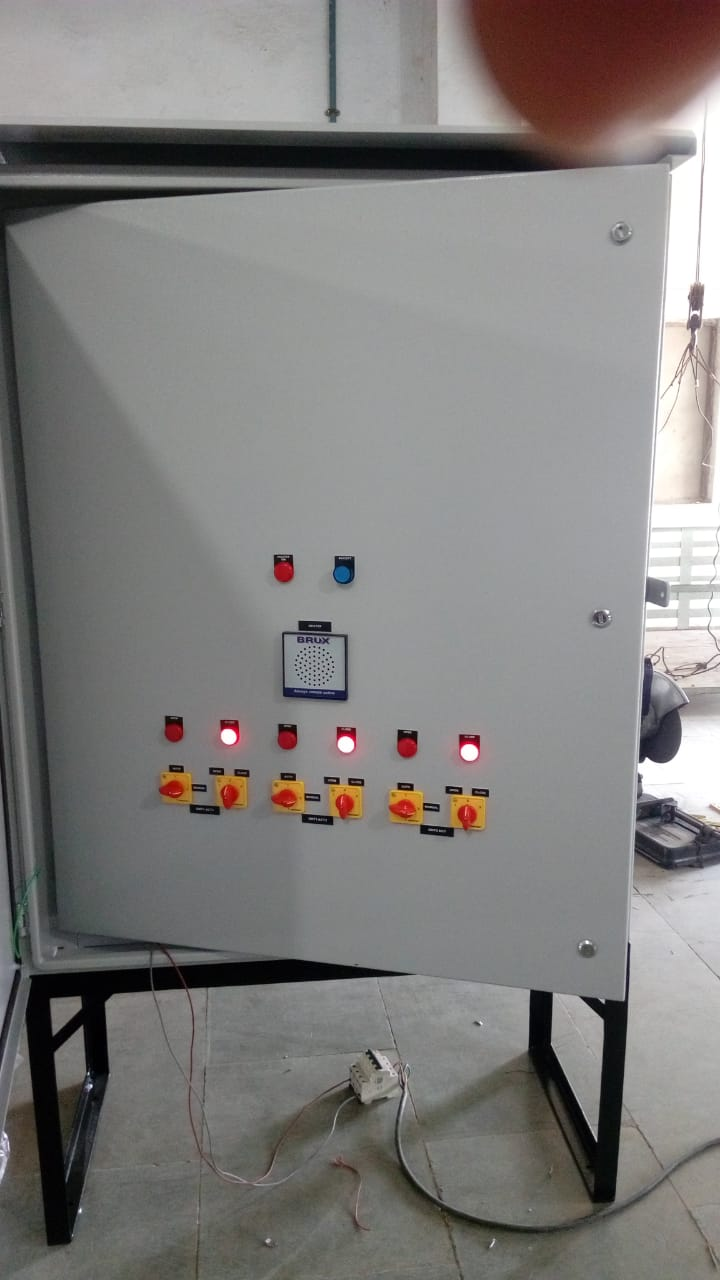Blue_Led_Off: (328, 552, 368, 591)
Red_Led_Off: (390, 730, 429, 767), (271, 721, 305, 758), (267, 553, 303, 585), (156, 716, 191, 748)
Red_Led_On: (453, 730, 494, 774), (332, 724, 366, 764), (212, 718, 245, 752)
